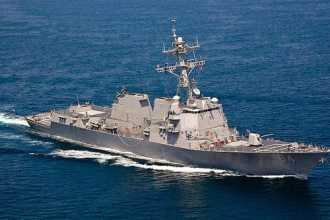warship: (26, 43, 327, 177)
